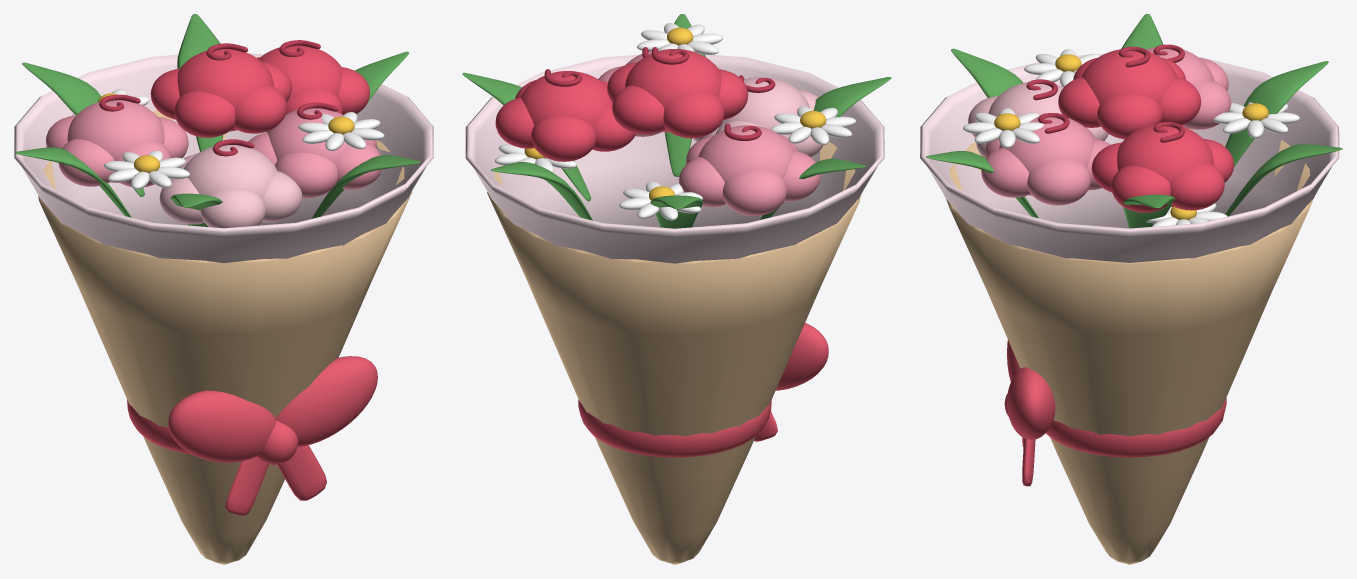
File: regalo_flores.glb
3 views of the same model, side by side, from view 1: azimuth 30°, elevation 25°; view 2: azimuth 150°, elevation 25°; view 3: azimuth 270°, elevation 25° (orthographic).
Parts seen in each view (by area): view 1: cono ramo, papel interior, oreja moño, oreja moño.001, rosa 1, rosa 0, rosa 3, rosa 2, pétalo rosa 03, rosa 4, pétalo rosa 04, pétalo rosa 31 (+22 smaller); view 2: cono ramo, papel interior, cinta ramo, rosa 0, rosa 1, rosa 2, pétalo rosa 20, pétalo rosa 11, pétalo rosa 02, rosa 3, pétalo rosa 01, oreja moño (+12 smaller); view 3: cono ramo, papel interior, cinta ramo, rosa 2, rosa 0, rosa 4, oreja moño.001, pétalo rosa 42, hoja ramo 2, pétalo rosa 00, pétalo rosa 24, pétalo rosa 23 (+14 smaller).
Boxes of the visible parts, x1=… form: cono ramo: x1=38, y1=110, x2=412, y2=564; papel interior: x1=14, y1=53, x2=433, y2=263; oreja moño: x1=168, y1=390, x2=275, y2=462; oreja moño.001: x1=275, y1=356, x2=377, y2=446; rosa 1: x1=67, y1=100, x2=164, y2=182; rosa 0: x1=177, y1=49, x2=273, y2=131; rosa 3: x1=184, y1=145, x2=277, y2=198; rosa 2: x1=258, y1=45, x2=342, y2=96; pétalo rosa 03: x1=174, y1=91, x2=235, y2=137; rosa 4: x1=268, y1=108, x2=350, y2=164; pétalo rosa 04: x1=234, y1=85, x2=286, y2=133; pétalo rosa 31: x1=200, y1=189, x2=265, y2=228; cono ramo: x1=487, y1=142, x2=860, y2=564; papel interior: x1=465, y1=54, x2=884, y2=263; cinta ramo: x1=578, y1=399, x2=771, y2=457; rosa 0: x1=625, y1=49, x2=721, y2=131; rosa 1: x1=698, y1=125, x2=794, y2=204; rosa 2: x1=520, y1=71, x2=612, y2=127; pétalo rosa 20: x1=531, y1=116, x2=595, y2=161; pétalo rosa 11: x1=722, y1=170, x2=786, y2=215; pétalo rosa 02: x1=663, y1=92, x2=724, y2=138; rosa 3: x1=719, y1=77, x2=809, y2=129; pétalo rosa 01: x1=612, y1=85, x2=665, y2=134; oreja moño: x1=776, y1=323, x2=828, y2=390; cono ramo: x1=946, y1=129, x2=1313, y2=564; papel interior: x1=920, y1=53, x2=1339, y2=262; cinta ramo: x1=1046, y1=397, x2=1226, y2=457; rosa 2: x1=1117, y1=124, x2=1213, y2=206; rosa 0: x1=1082, y1=49, x2=1177, y2=104; rosa 4: x1=999, y1=116, x2=1094, y2=195; oreja moño.001: x1=1007, y1=367, x2=1055, y2=439; pétalo rosa 42: x1=1027, y1=160, x2=1091, y2=205; hoja ramo 2: x1=1225, y1=61, x2=1328, y2=166; pétalo rosa 00: x1=1097, y1=94, x2=1162, y2=139; pétalo rosa 24: x1=1170, y1=162, x2=1224, y2=210; pétalo rosa 23: x1=1111, y1=166, x2=1170, y2=212.
Bounding box in the file's own units: 0.398 × 0.4904 × 0.3663.
